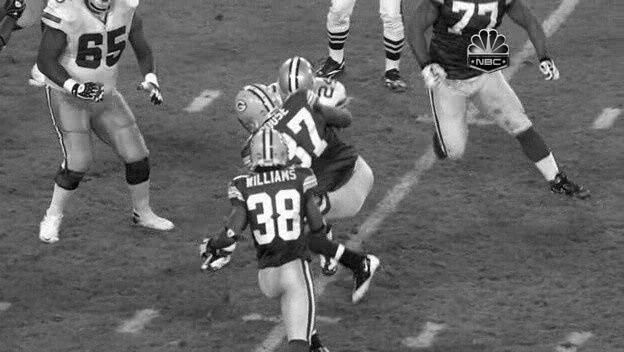person: (279, 60, 312, 102), (278, 60, 311, 102), (280, 60, 313, 102), (279, 59, 312, 101), (279, 61, 312, 103)
target_negative: (101, 50, 500, 119), (186, 131, 365, 281), (399, 79, 453, 290), (29, 280, 195, 324), (340, 278, 567, 301), (61, 164, 92, 310)
